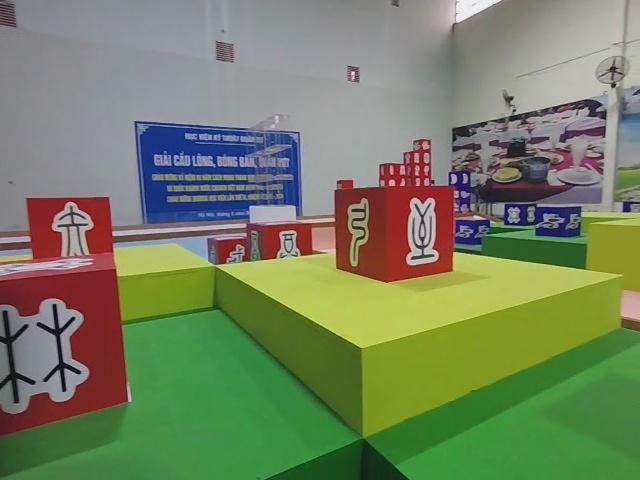R2 Fake: (331, 183, 458, 283), (24, 193, 117, 273)
R2 Real: (0, 248, 131, 437), (245, 220, 315, 267)
